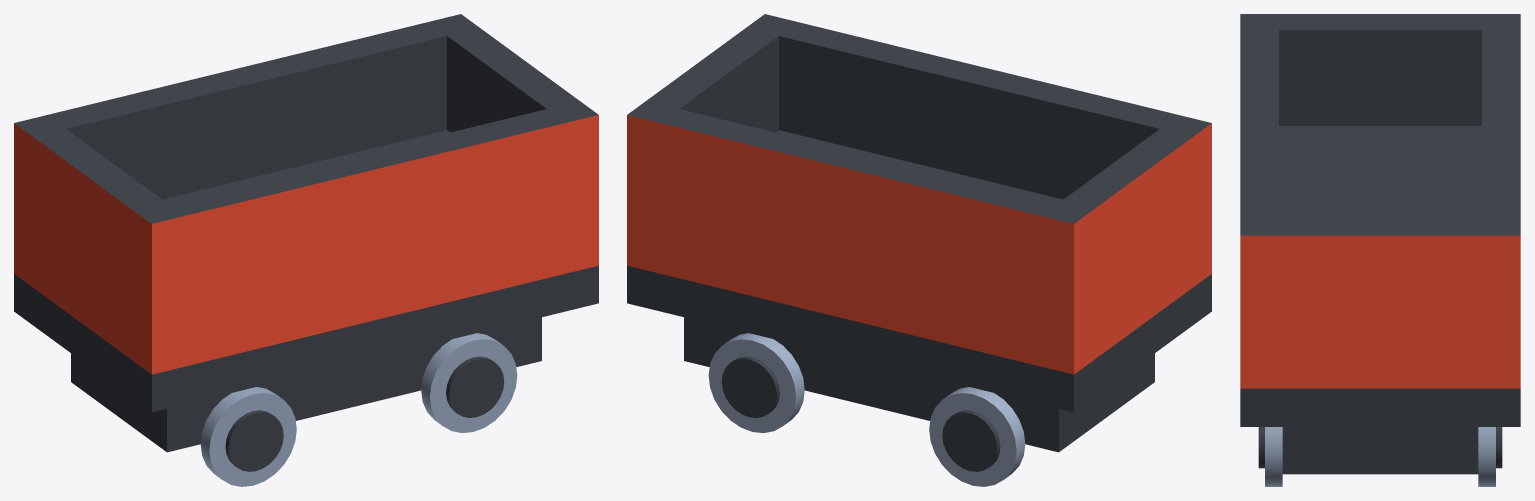
File: trainTender.fbx
The picture shows the model from 3 angles, left to right: view 1: azimuth 30°, elevation 25°; view 2: azimuth 150°, elevation 25°; view 3: azimuth 270°, elevation 25°; orthographic projection.
Visible parts, largest first — view 1: trainTender; view 2: trainTender; view 3: trainTender.
Part boxes in pixels (x1=…): trainTender: x1=14, y1=14, x2=598, y2=486; trainTender: x1=627, y1=14, x2=1211, y2=486; trainTender: x1=1240, y1=14, x2=1520, y2=486.
Size of the model in its own units: 2.48 by 1.58 by 1.33.
